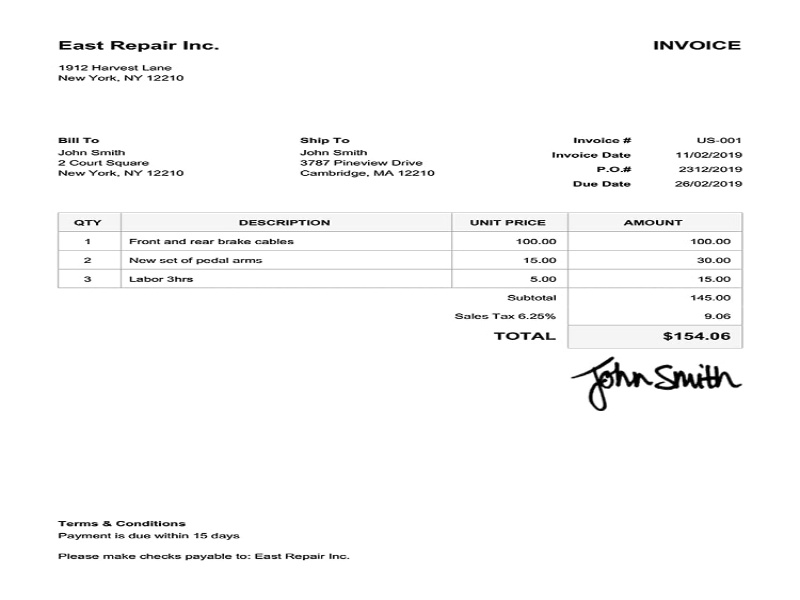invoice_detail: (296, 134, 436, 181), (55, 134, 188, 181)
table: (57, 211, 743, 288)
total: (491, 324, 743, 348)
